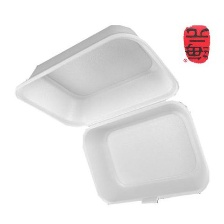foam_box: (11, 21, 213, 210)
